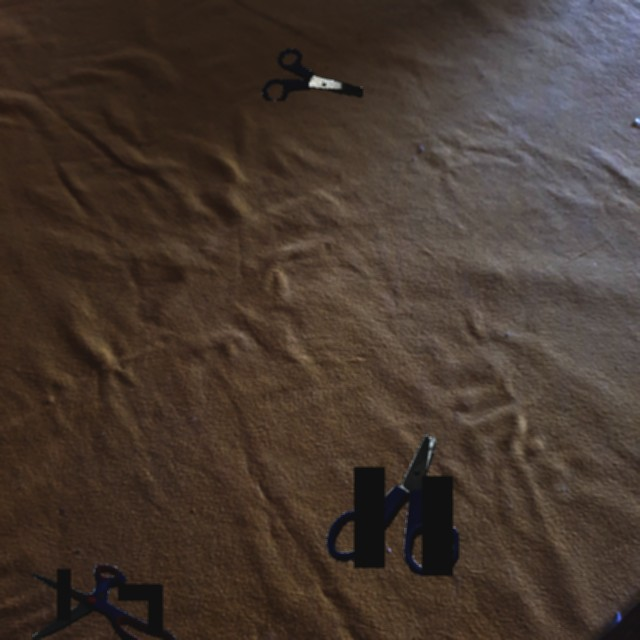scissors: (326, 434, 459, 576), (32, 564, 177, 640), (262, 48, 363, 101)
